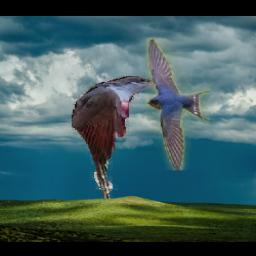Cuckoo: (73, 77, 172, 201)
Swallow: (146, 38, 211, 170)
